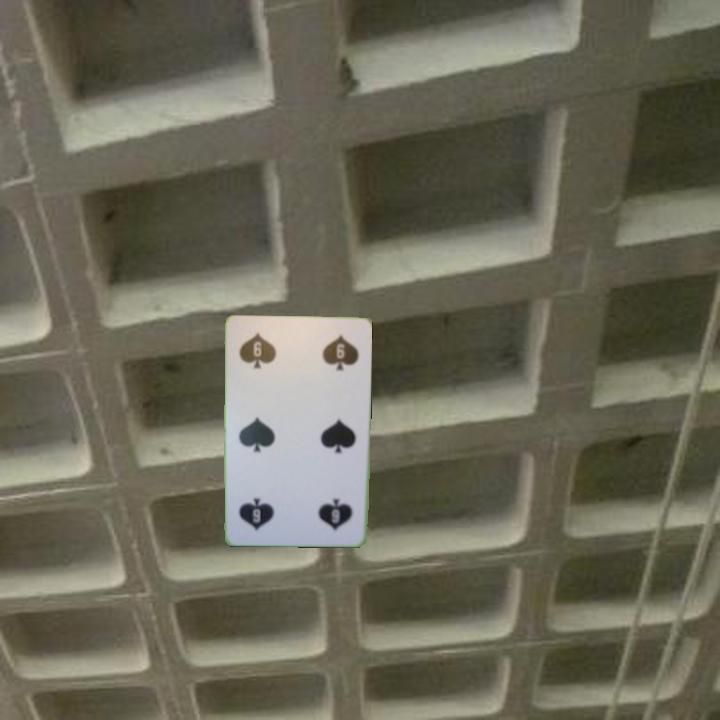s_6.png: (233, 324, 301, 383), (292, 479, 360, 537)
